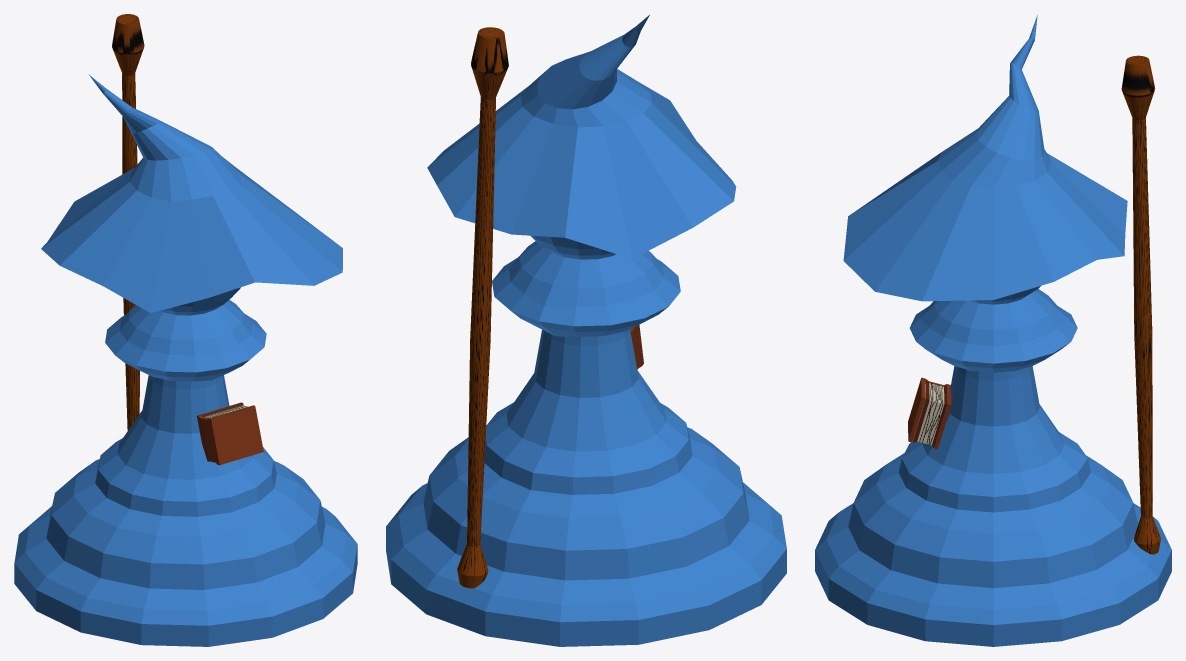
File: FFWizard.fbx
3 renders of one model, left to right at view 1: azimuth 30°, elevation 25°; view 2: azimuth 150°, elevation 25°; view 3: azimuth 270°, elevation 25°, orthographic. The views are drawn at different scales.
Visible parts, largest first — view 1: Wizard Book.001; view 2: Wizard Book.001; view 3: Wizard Book.001.
Part boxes in pixels (box(x1,y1,x2,y2)): Wizard Book.001: box(14, 14, 357, 646); Wizard Book.001: box(386, 15, 786, 646); Wizard Book.001: box(815, 15, 1171, 646).
Bounding box in the file's own units: 470 × 470 × 755.
